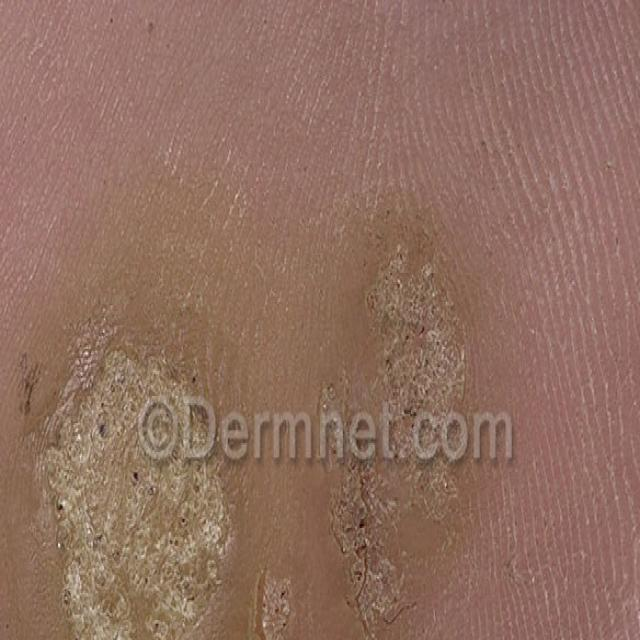Warts: (2, 150, 294, 640), (309, 148, 491, 640)
